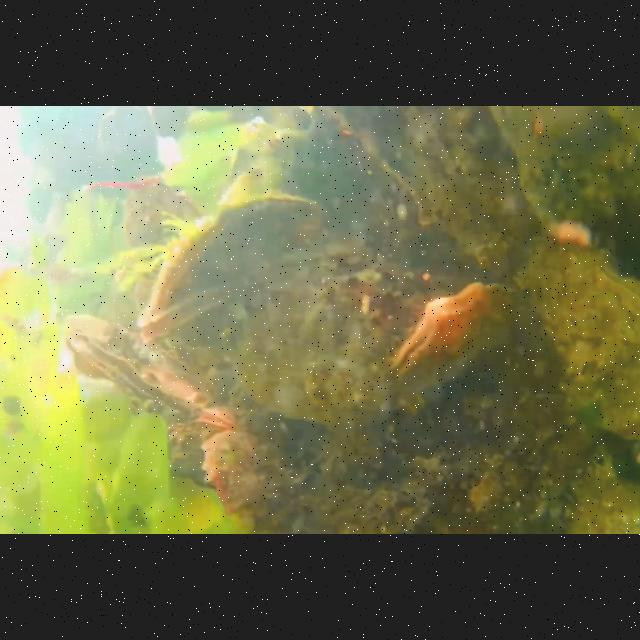Oyster-Closed: (327, 106, 545, 274), (488, 106, 640, 222), (118, 179, 208, 259)
Oyster-Open: (142, 243, 446, 443), (143, 197, 343, 337), (518, 234, 640, 442), (387, 280, 523, 412), (60, 310, 210, 424), (192, 404, 242, 440)
